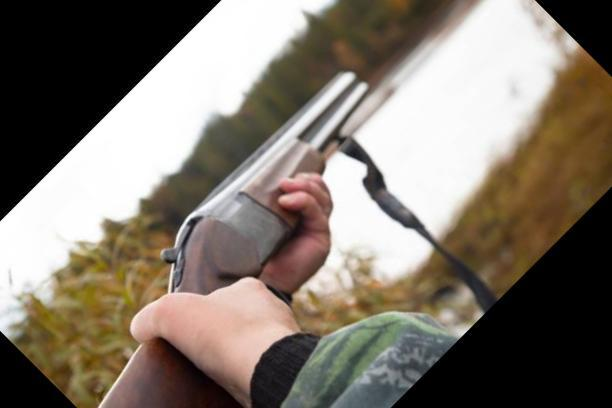larga: (98, 70, 371, 408)
